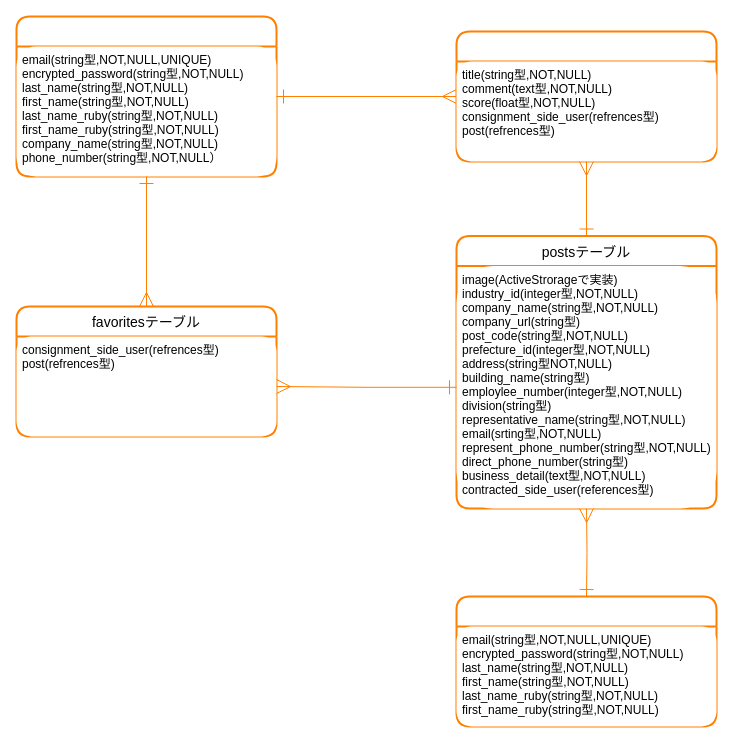
Image size: 733x743. Some labels were removed from this diagram. The shapes that lost their labels are listed below. From the top down, each one's box as (x1, y1, x2, y2) in pixels, then its label:
(15, 15, 277, 177): consignment_side_usersテーブル
(455, 30, 717, 162): reviewsテーブル
(455, 595, 717, 727): contracted_side_userテーブル
